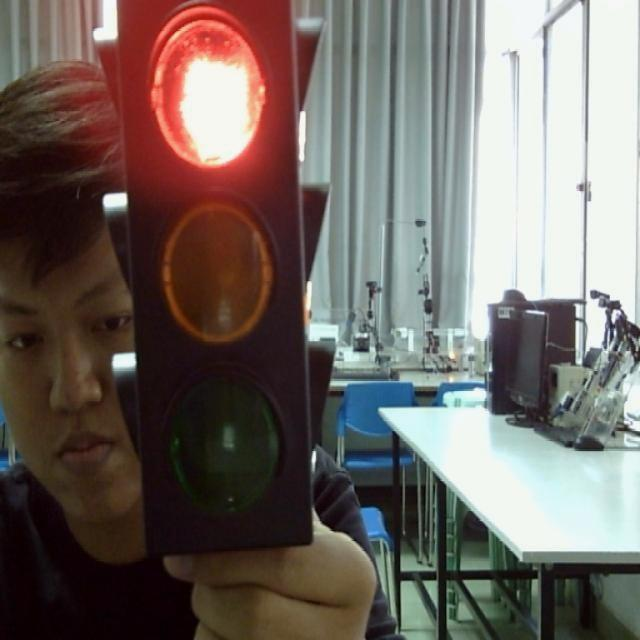Red: (112, 0, 328, 556)
